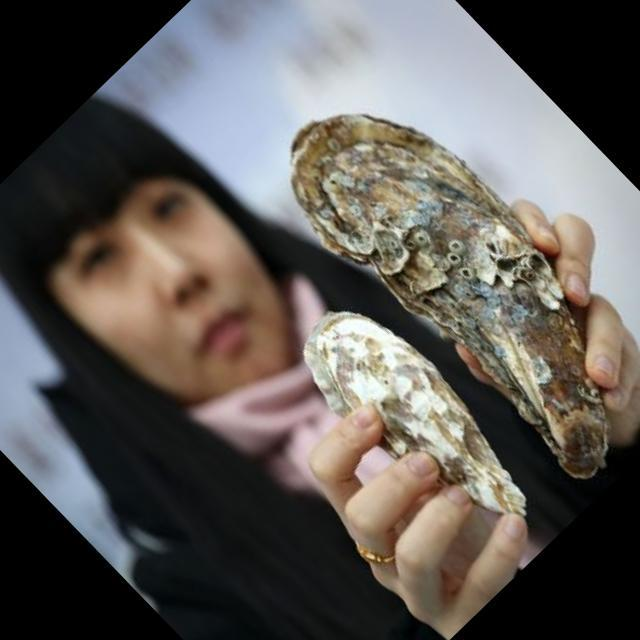Oyster- Indeterminate: (289, 114, 613, 485), (302, 311, 528, 518)
